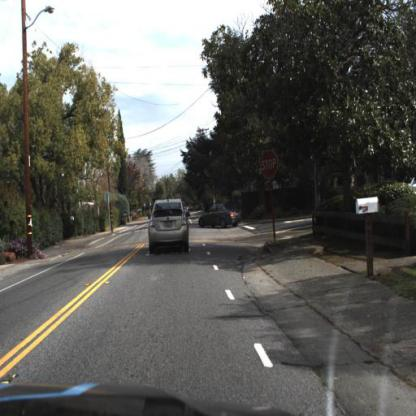car: (144, 193, 189, 261), (197, 206, 241, 232)
